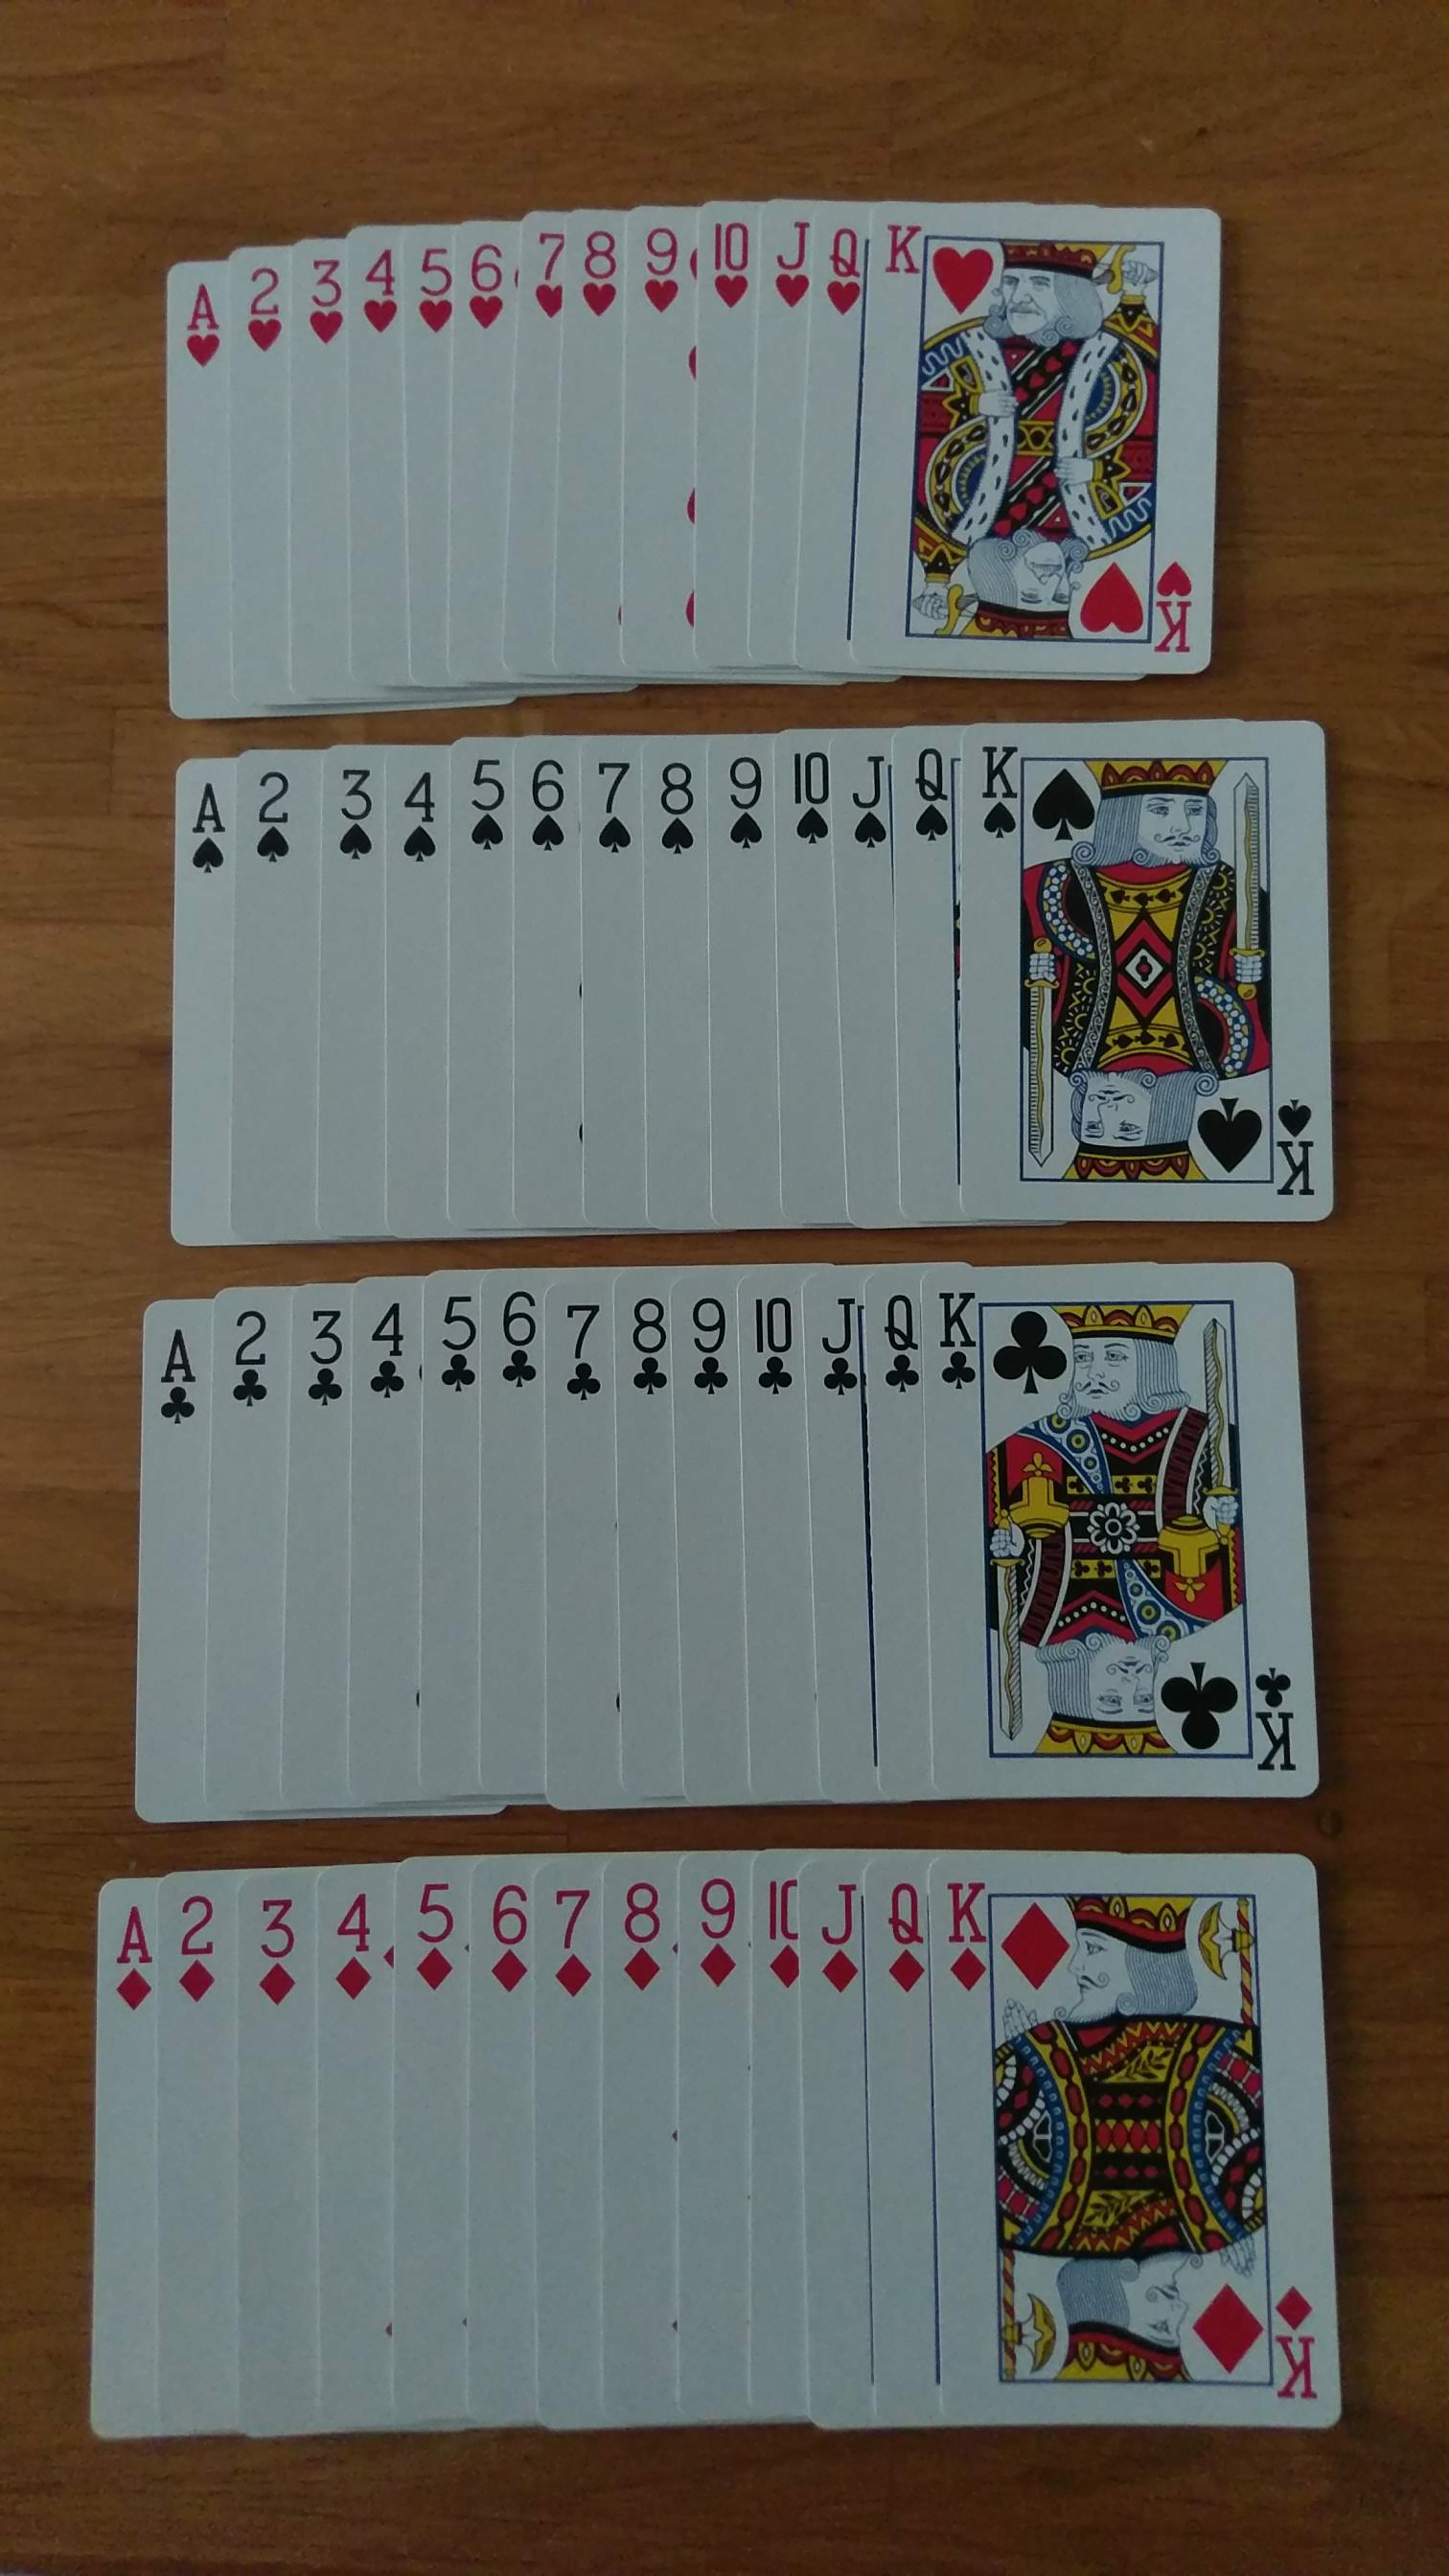10F: (748, 1283, 803, 1415)
10Q: (768, 1868, 812, 1997)
1F: (149, 1315, 211, 1428)
1Q: (111, 1891, 152, 2020)
2F: (425, 1290, 485, 1415), (221, 1300, 283, 1419), (359, 1290, 416, 1408), (301, 1300, 356, 1412)
2Q: (166, 1882, 225, 2028)
3Q: (242, 1882, 306, 2024)
4Q: (327, 1882, 387, 2028)
5Q: (400, 1870, 456, 2028)
6F: (488, 1283, 552, 1401)
6Q: (490, 1874, 536, 2006)
7F: (557, 1286, 614, 1412)
7Q: (550, 1877, 594, 2006)
8F: (625, 1283, 672, 1410)
8Q: (619, 1870, 669, 2006)
9F: (683, 1283, 741, 1422)
9Q: (694, 1861, 743, 1997)
JF: (812, 1290, 869, 1408)
JQ: (817, 1868, 869, 2005)
KF: (929, 1281, 984, 1401)
KQ: (939, 1875, 1003, 2012)
QF: (878, 1277, 927, 1405)
QQ: (881, 1875, 936, 2010)
